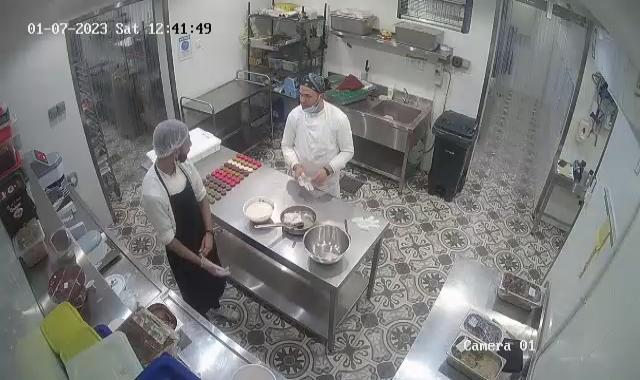hairnet: (151, 119, 189, 161)
no_hairnet: (298, 72, 332, 96)
